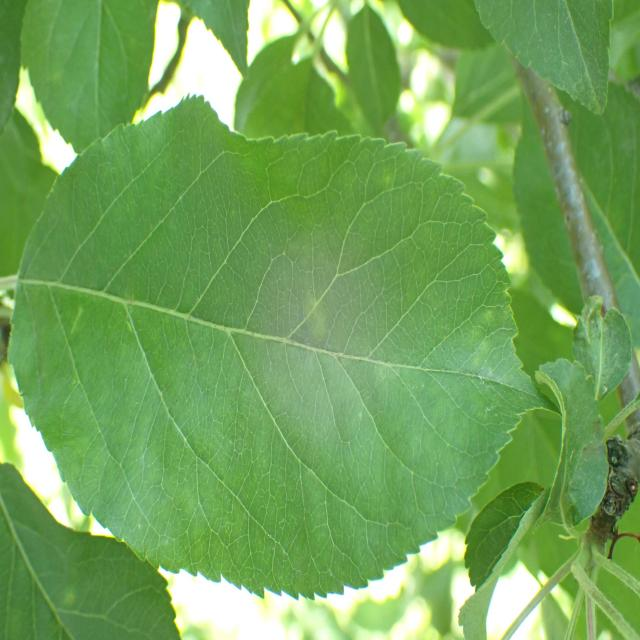scab: (49, 192, 524, 521)
